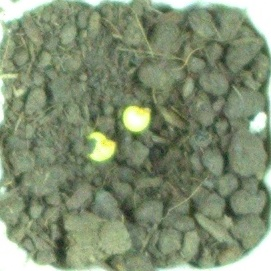chilli seed: (84, 131, 116, 163), (121, 104, 151, 131)
